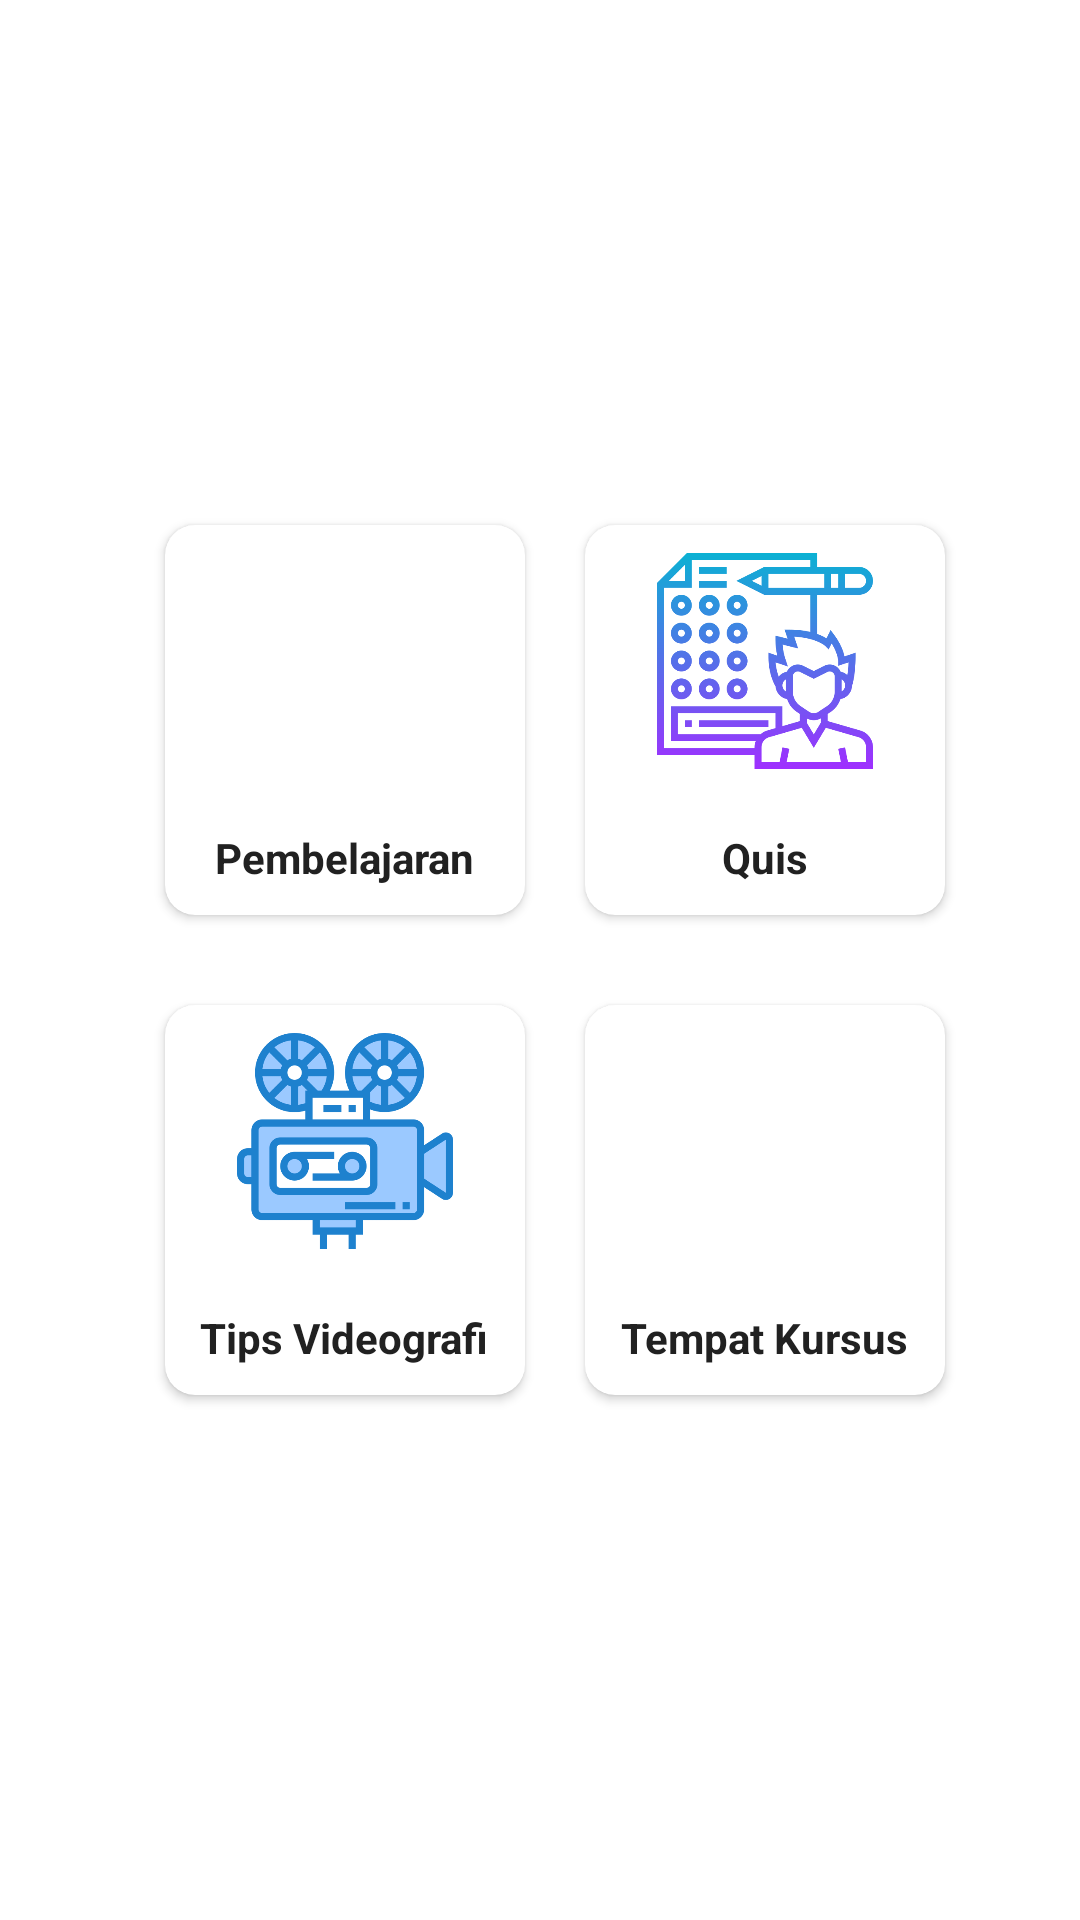

Icon bounding boxes for this 1080 × 1920 phone screenshot, format {"x1": x1, "y1": y1, "x2": x2, "y2": y2}:
camera: {"x1": 237, "y1": 1033, "x2": 453, "y2": 1249}
